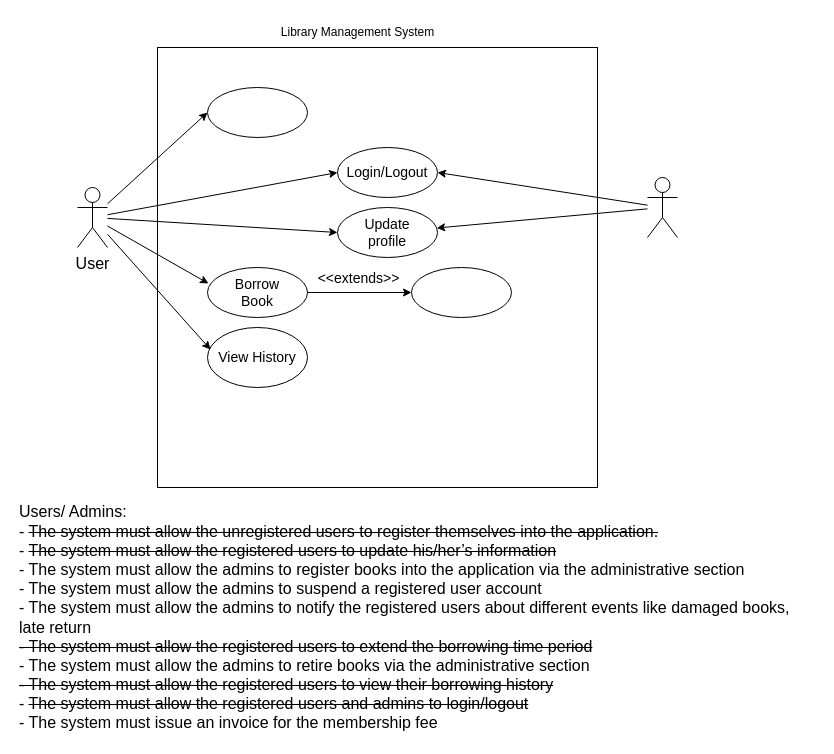
The diagram is 834 pixels wide and 754 high, and some of its shapes have lost their labels. The centre of each missing label's shape, as x and y in pixels:
"Admin" goes at point (662, 207).
"Borrow" goes at point (461, 292).
"Registration" goes at point (257, 112).
